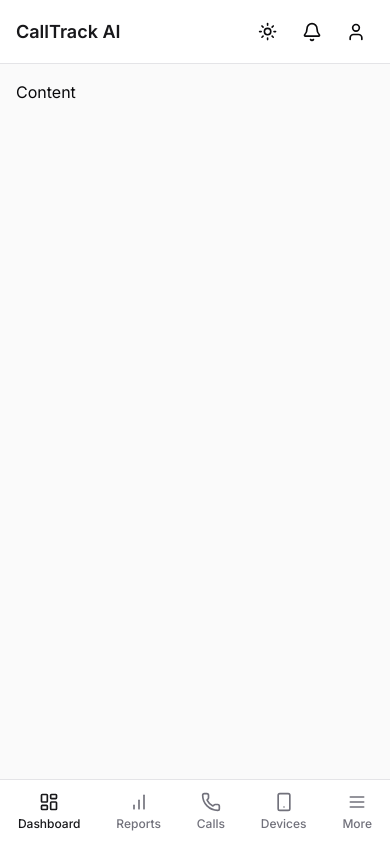
Test: AppShell › Mobile view › should show overflow items when More button is clicked
The image size is (390, 844).
Click the button with test id "bottom-nav-more": coordinates (357, 812) [330, 784, 384, 840]
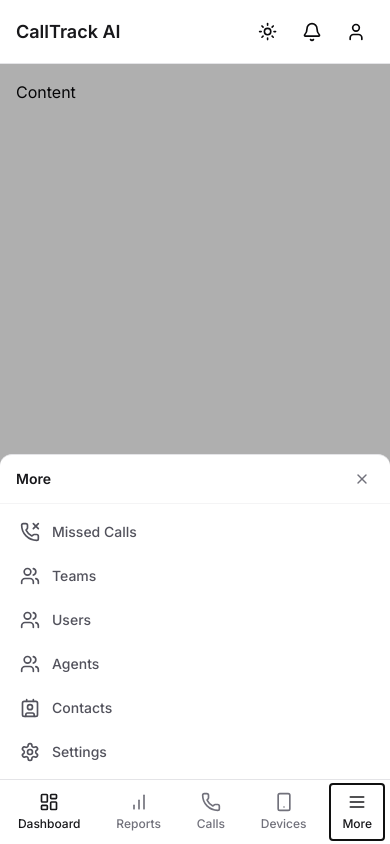
Now the text "Teams" is shown, box [52, 566, 96, 586]
Now the text "Users" is shown, box [52, 610, 91, 630]
Now the text "Agents" is shown, box [52, 654, 99, 674]
